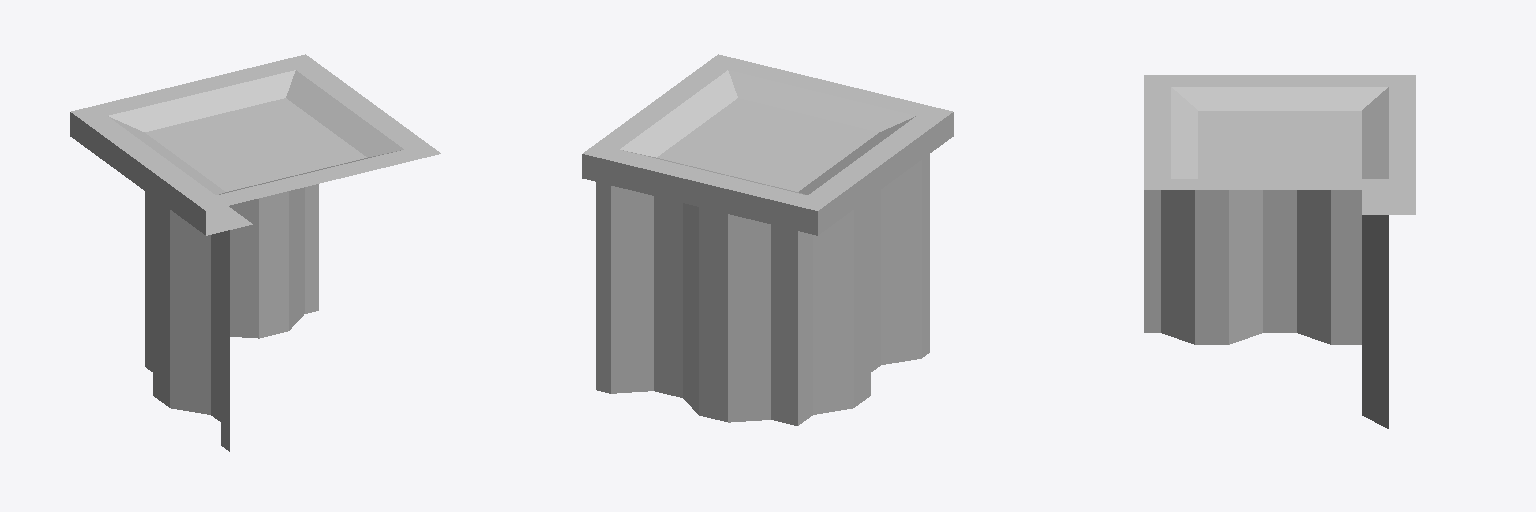
The model's file is Outer_Corner_Wall_Roof_Outer_Corner.obj.
The picture shows the model from 3 angles: view 1: azimuth 30°, elevation 25°; view 2: azimuth 150°, elevation 25°; view 3: azimuth 270°, elevation 25°; orthographic projection.
Parts seen in each view (by area): view 1: Outer_Corner_Wall_Roof_Outer_Corner; view 2: Outer_Corner_Wall_Roof_Outer_Corner; view 3: Outer_Corner_Wall_Roof_Outer_Corner.
Part boxes in pixels (bbox=[...]): Outer_Corner_Wall_Roof_Outer_Corner: bbox=[70, 54, 440, 451]; Outer_Corner_Wall_Roof_Outer_Corner: bbox=[582, 54, 953, 425]; Outer_Corner_Wall_Roof_Outer_Corner: bbox=[1144, 75, 1415, 428].
Size of the model in its own units: 1 by 1 by 1.